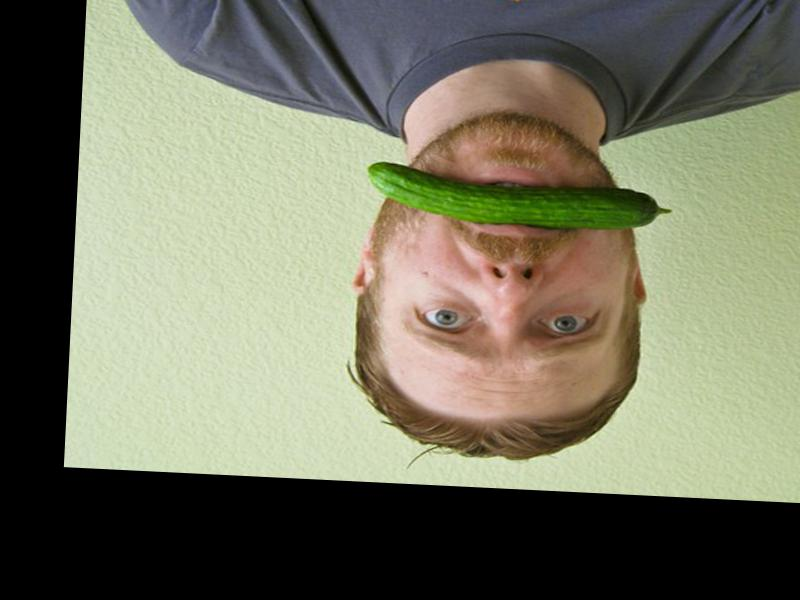Cucumber: (362, 160, 673, 233)
